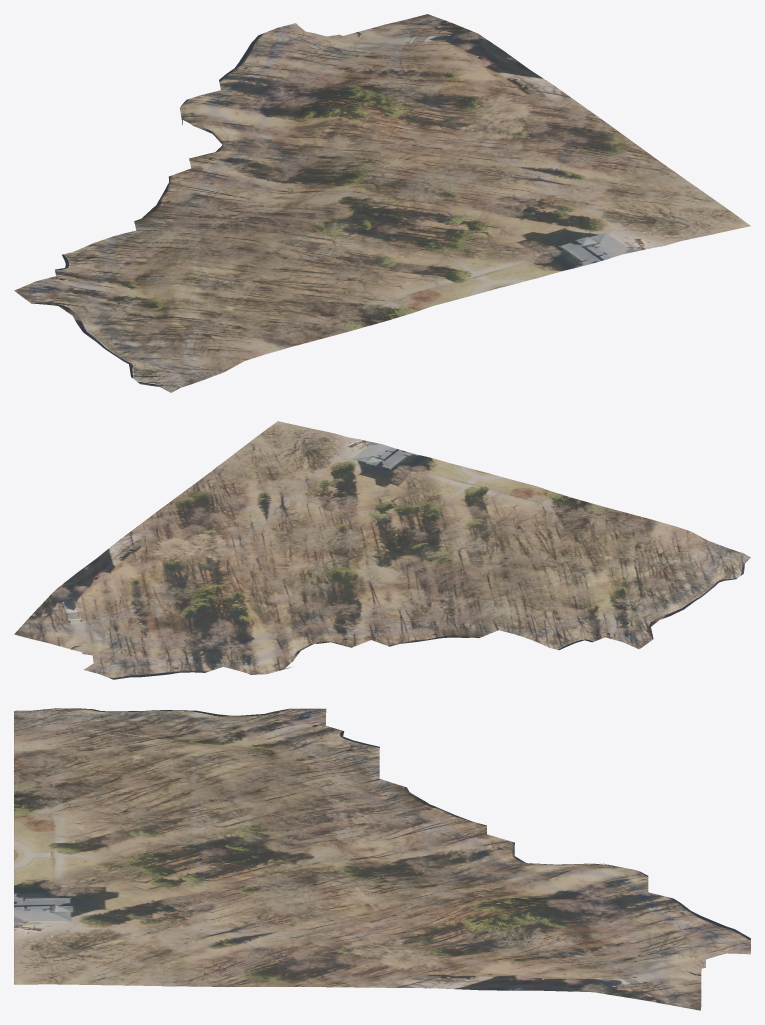
The model's file is CM_Terrain_24486568_6819384.fbx.
The picture shows the model from 3 angles, top to bottom: view 1: azimuth 30°, elevation 25°; view 2: azimuth 150°, elevation 25°; view 3: azimuth 270°, elevation 25°; orthographic projection. The views are drawn at different scales.
Visible parts, largest first — view 1: CM_Terrain_24486568_6819384_LOD0; view 2: CM_Terrain_24486568_6819384_LOD0; view 3: CM_Terrain_24486568_6819384_LOD0.
Boxes of the visible parts, left/top/right/bottom form: CM_Terrain_24486568_6819384_LOD0: left=14, top=14, right=750, bottom=392; CM_Terrain_24486568_6819384_LOD0: left=14, top=421, right=750, bottom=679; CM_Terrain_24486568_6819384_LOD0: left=14, top=708, right=750, bottom=1010.
Size of what is drawn, in the model's own units: 201 by 10.3 by 205.
